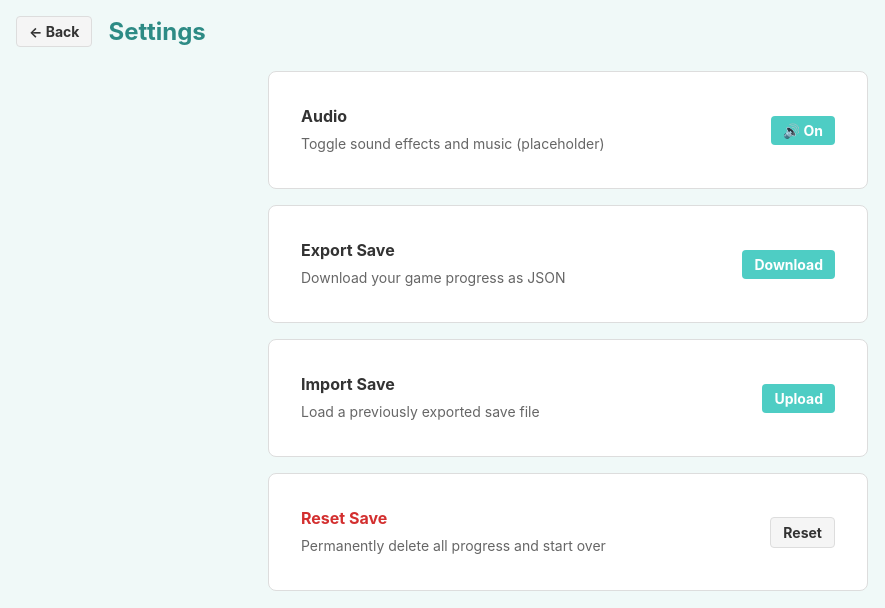
Test: Settings › toggles audio back to on state
Click the button "🔊 On".
click(803, 130)  # box [771, 116, 835, 144]
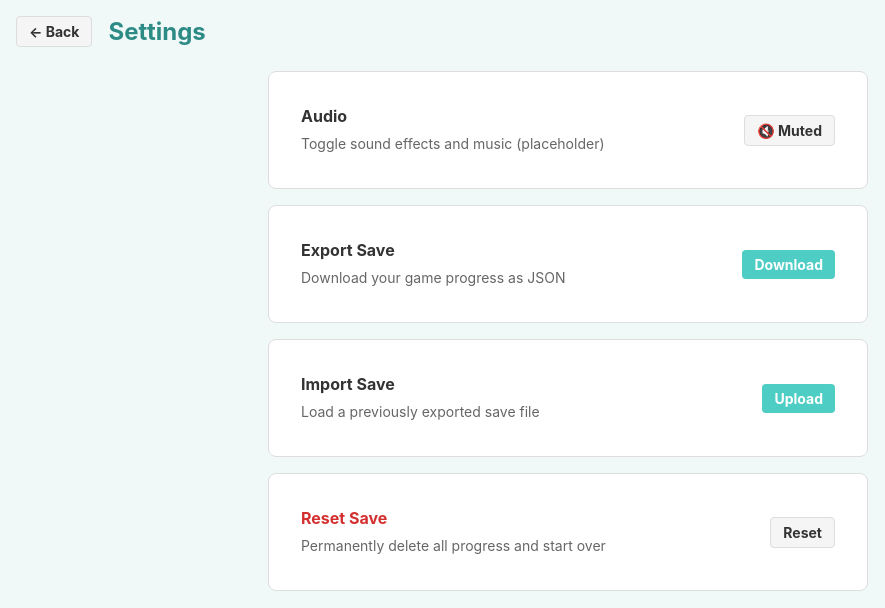
expect the text "🔇 Muted" is shown: met
Click the button "🔇 Muted".
click(790, 130)  # box [744, 114, 835, 146]
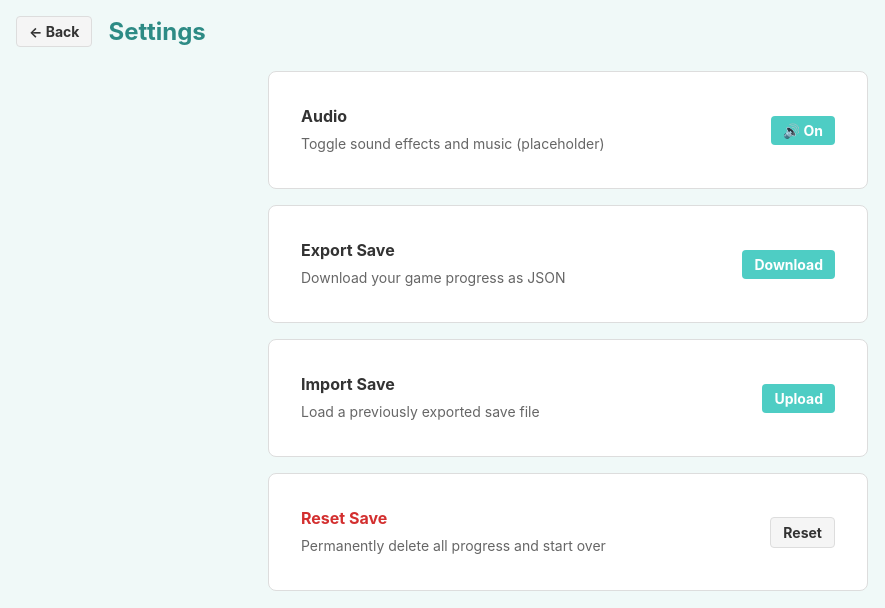
expect the text "🔊 On" is shown: met, box [771, 116, 835, 144]
